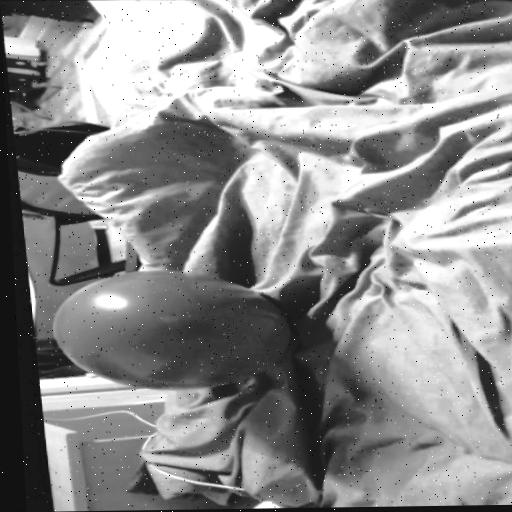balloon: (36, 268, 293, 392)
